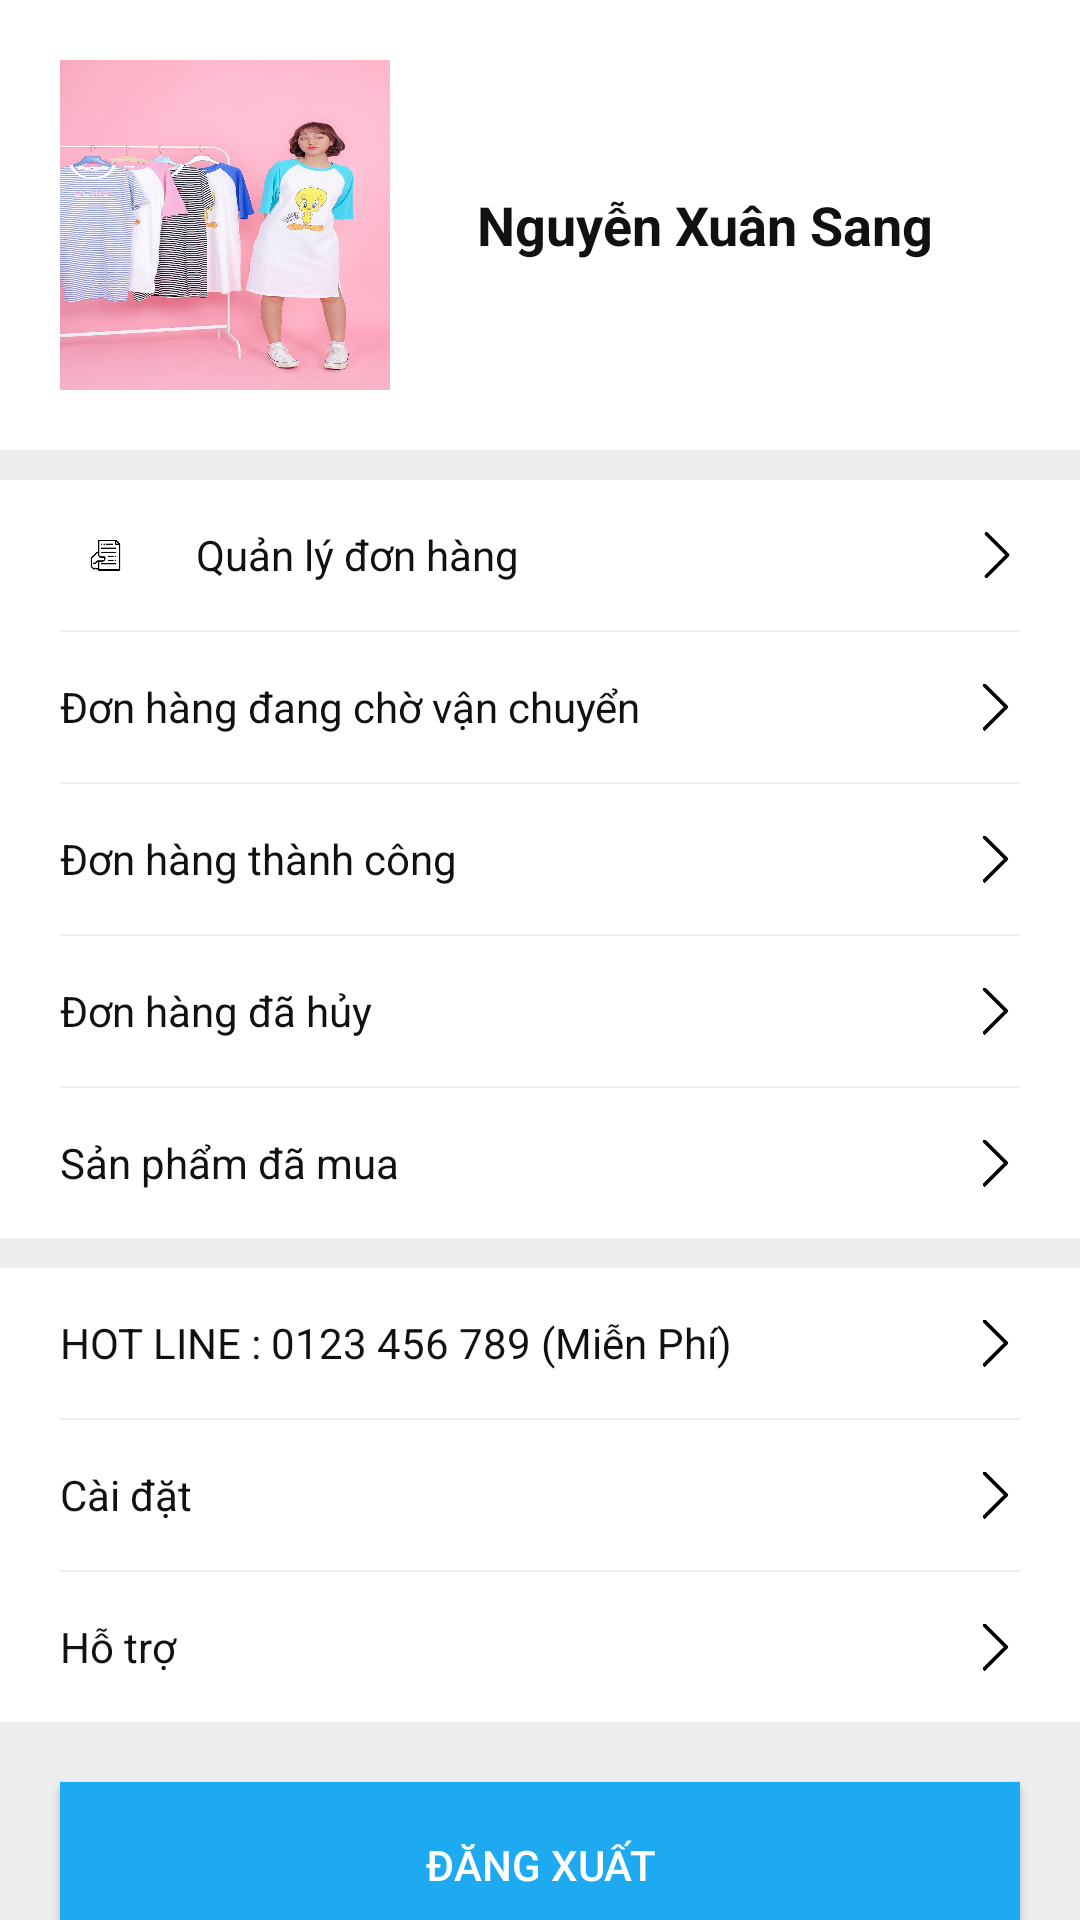

Point at icon controls on the screen. Image size 1080x1920, points as point (x, y).
order: point (105, 555)
